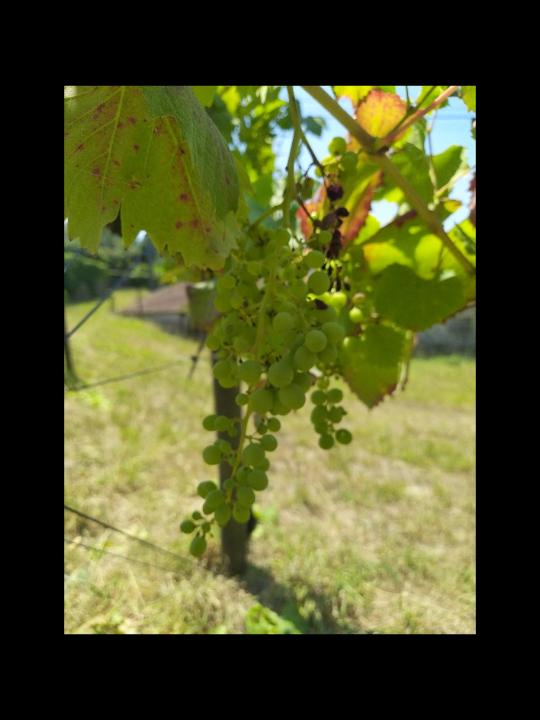grape: (179, 221, 345, 559)
